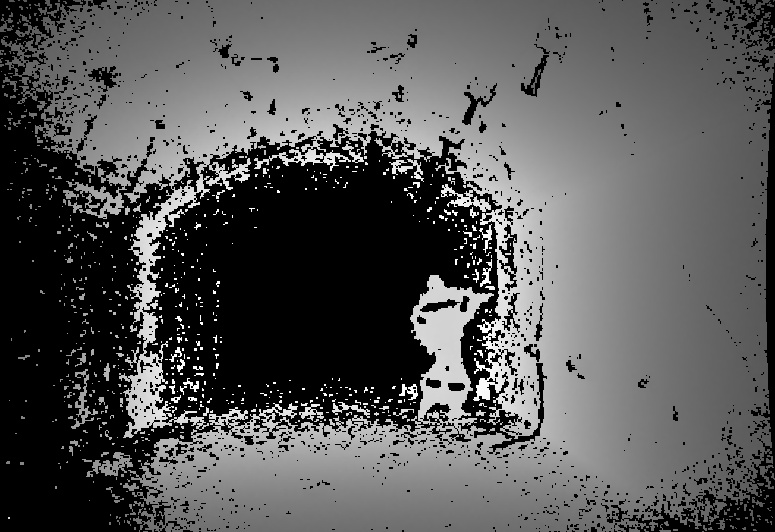person: (411, 275, 493, 418)
